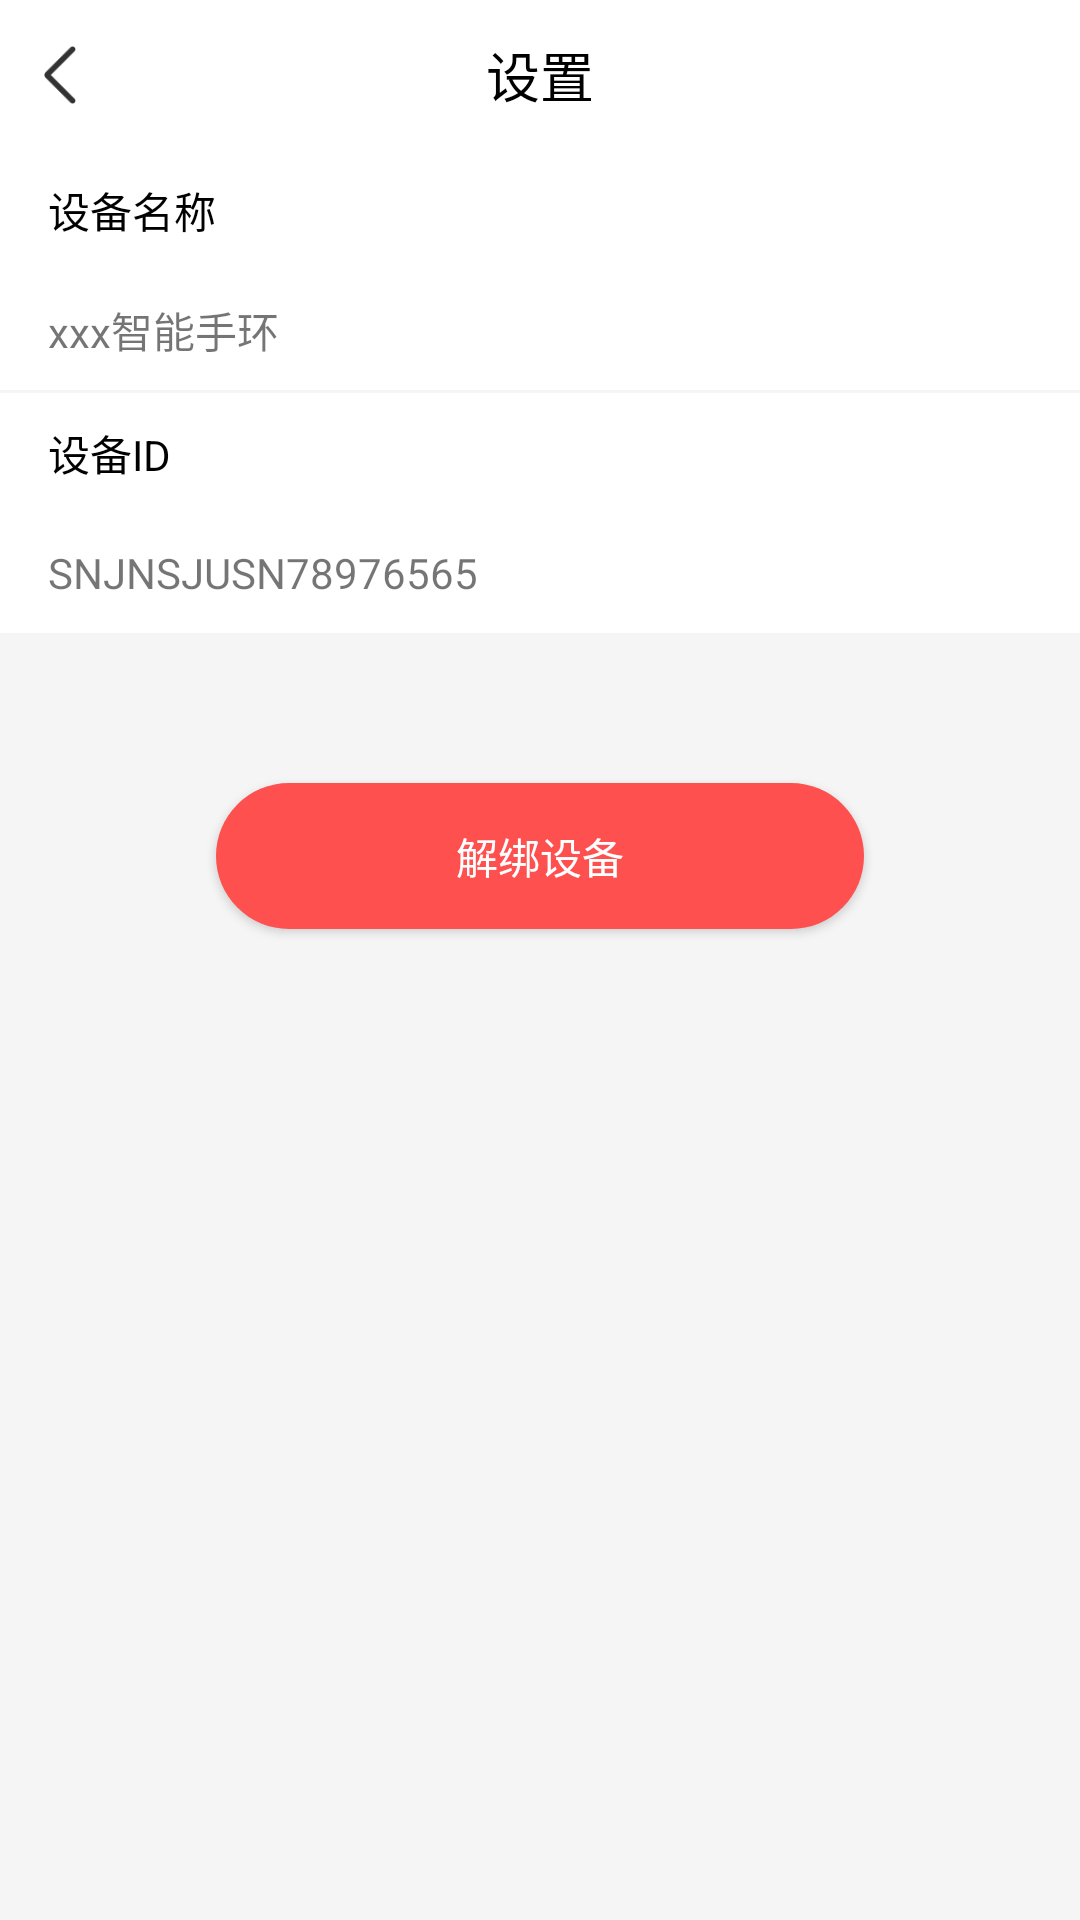

Icon bounding boxes for this 1080*1920 phone screenshot, format Rect(x1, y1, x2, y2):
back: Rect(44, 46, 76, 104)
